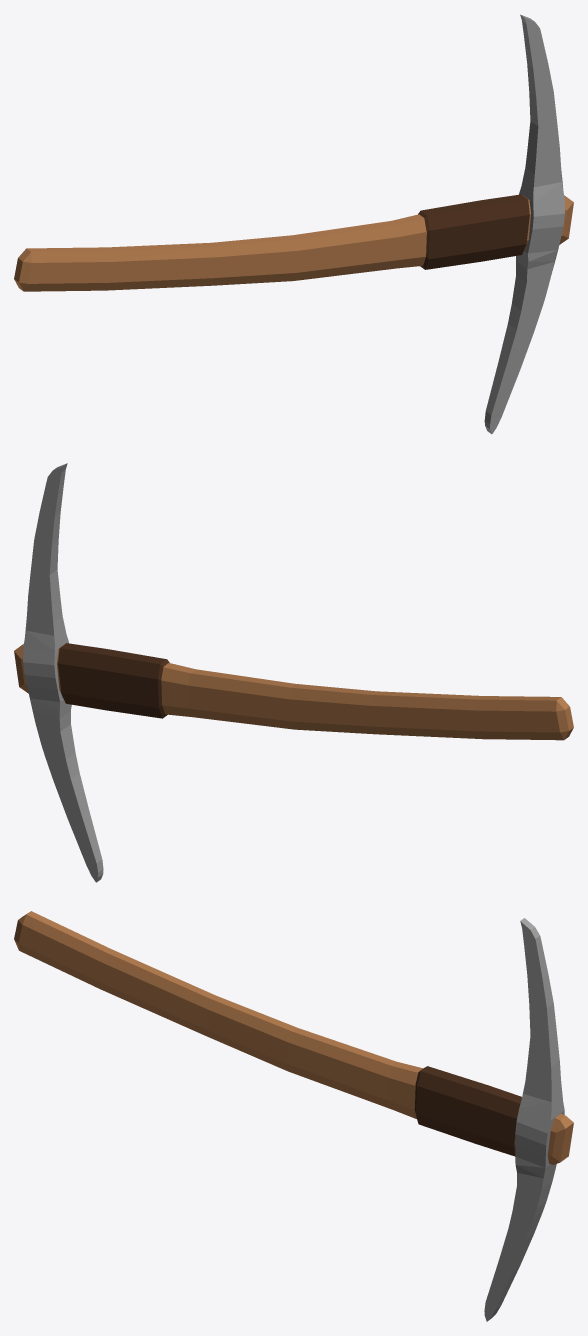
Rendered from IronPickaxe.dae.
3 views of the same model, one above another, from view 1: azimuth 30°, elevation 25°; view 2: azimuth 150°, elevation 25°; view 3: azimuth 330°, elevation 25° (orthographic).
Parts seen in each view (by area): view 1: Cube.001, Cube, Cube.002; view 2: Cube.001, Cube, Cube.002; view 3: Cube.001, Cube, Cube.002.
Part boxes in pixels (bbox=[...]): Cube.001: bbox=[14, 195, 573, 291]; Cube: bbox=[484, 14, 564, 433]; Cube.002: bbox=[418, 194, 529, 269]; Cube.001: bbox=[14, 644, 573, 740]; Cube: bbox=[23, 463, 103, 882]; Cube.002: bbox=[58, 643, 169, 718]; Cube.001: bbox=[14, 911, 573, 1164]; Cube: bbox=[484, 918, 564, 1321]; Cube.002: bbox=[414, 1066, 521, 1156].
Size of the model in its own units: 0.7083 by 0.0381 by 0.4999.
